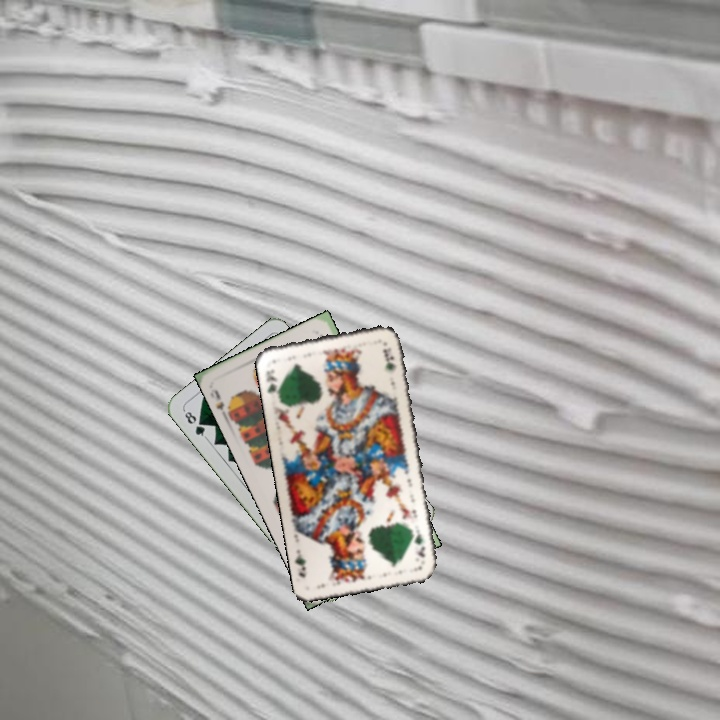G8: (180, 406, 209, 441)
GK: (261, 365, 283, 399), (409, 525, 427, 560)
S9: (210, 386, 236, 422)
